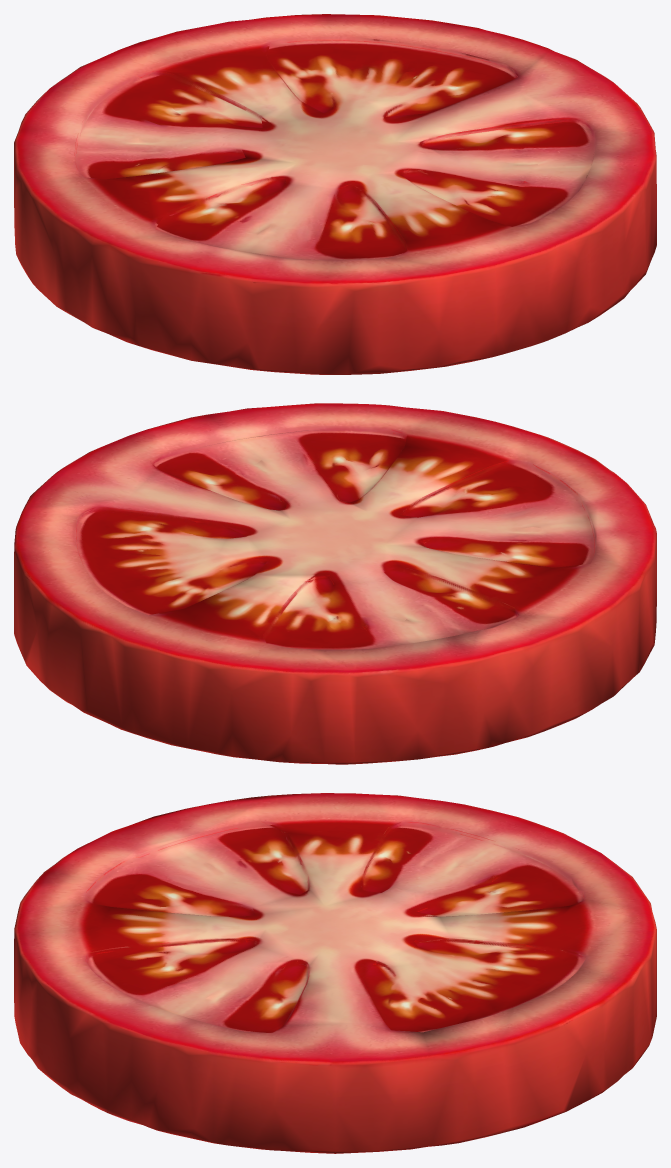
Rendered from tomato.glb.
3 renders of one model, top to bottom at view 1: azimuth 30°, elevation 25°; view 2: azimuth 150°, elevation 25°; view 3: azimuth 270°, elevation 25°, orthographic.
Parts seen in each view (by area): view 1: Mesh10; view 2: Mesh10; view 3: Mesh10.
Boxes of the visible parts, x1,y1,x2,y2 form: Mesh10: [14, 14, 656, 374]; Mesh10: [14, 403, 656, 764]; Mesh10: [14, 793, 656, 1153].
Size of the model in its own units: 1.91 by 0.3 by 1.91.
1 material, 1 textured.
